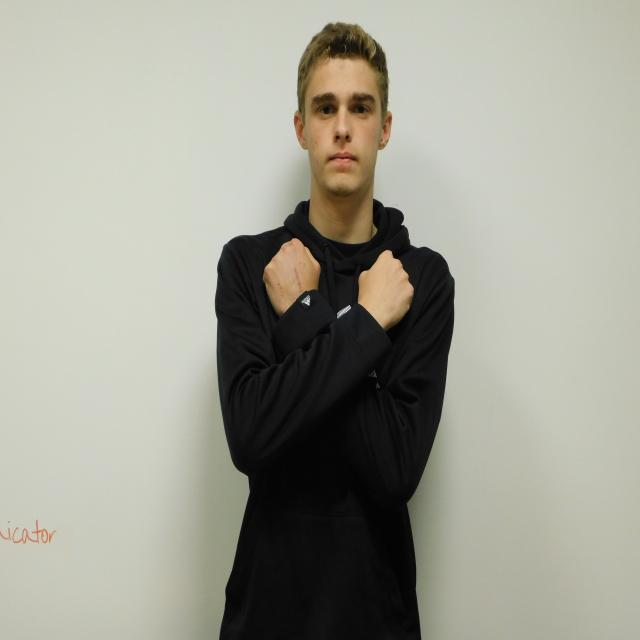love: (264, 238, 414, 330)
